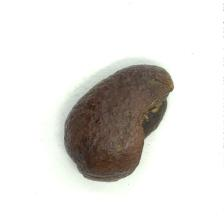NG: (133, 81, 173, 170)
